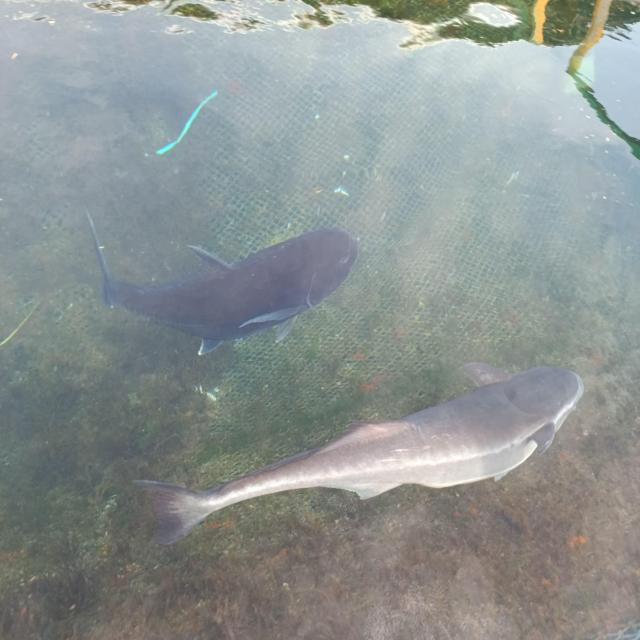ikan: (113, 354, 602, 559), (74, 204, 367, 353)
